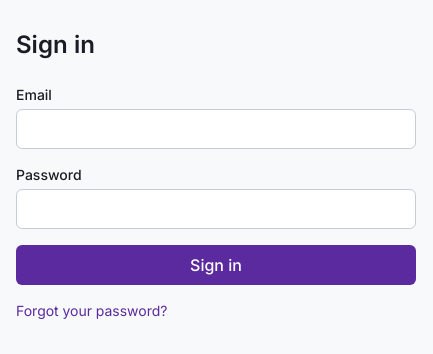
LoginScreen (HRD-14) › shows a clear invalid-credentials error on a 401, without redirecting
The image size is (433, 354).
Type "wrong@testco.example" into the field labelled "Email" at (216, 129), box 16,109 -> 416,149
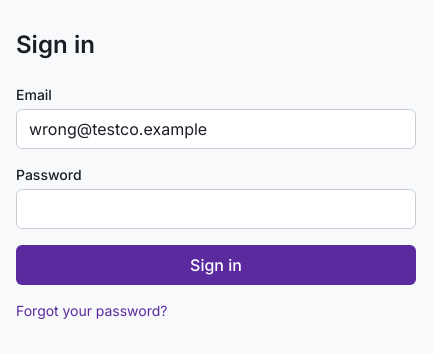
Type "WrongPassword1!" into the password field labelled "Password" at (216, 209), box 16,189 -> 416,229
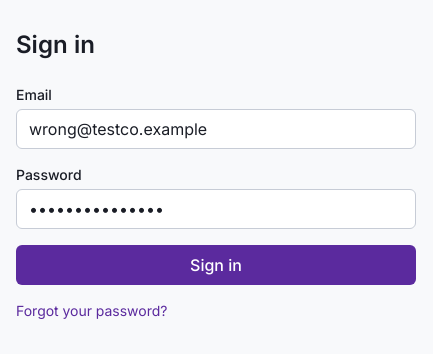
Click the button "Sign in" at (216, 265), box 16,245 -> 416,285
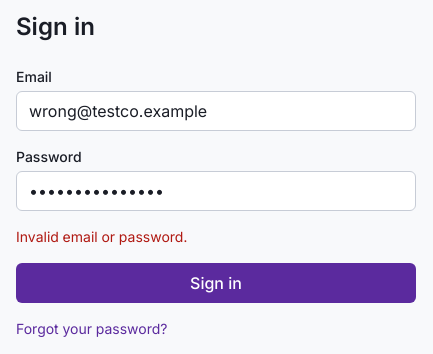
Result: the message shows "Invalid email or password" at 16,228 -> 187,245
